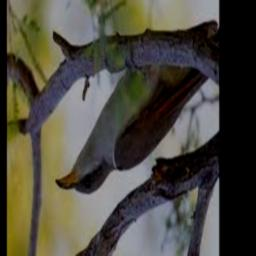Cuckoo: (57, 59, 210, 195)
